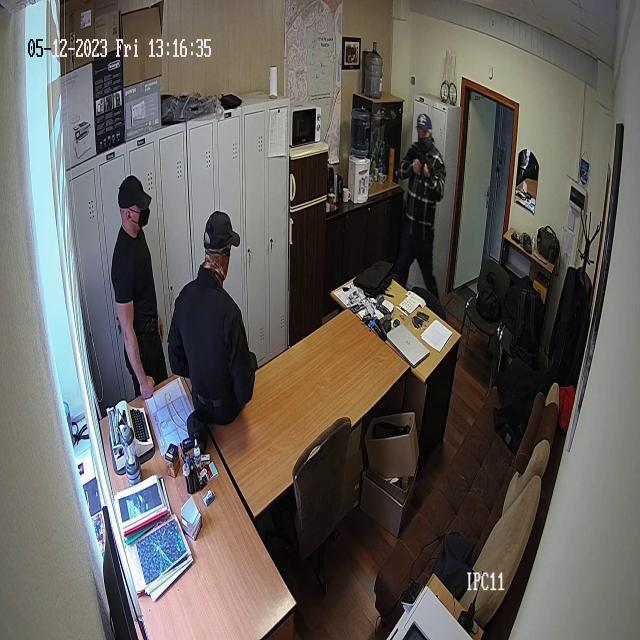pistol: (410, 151, 444, 184), (511, 229, 522, 244)
